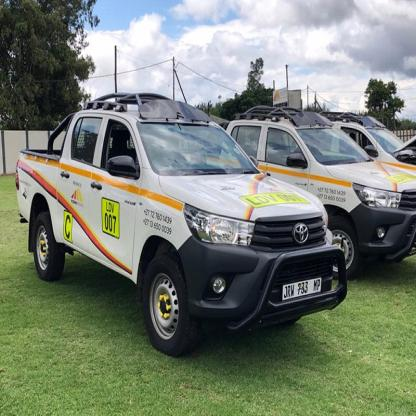light_vehicle: (6, 71, 352, 390)
